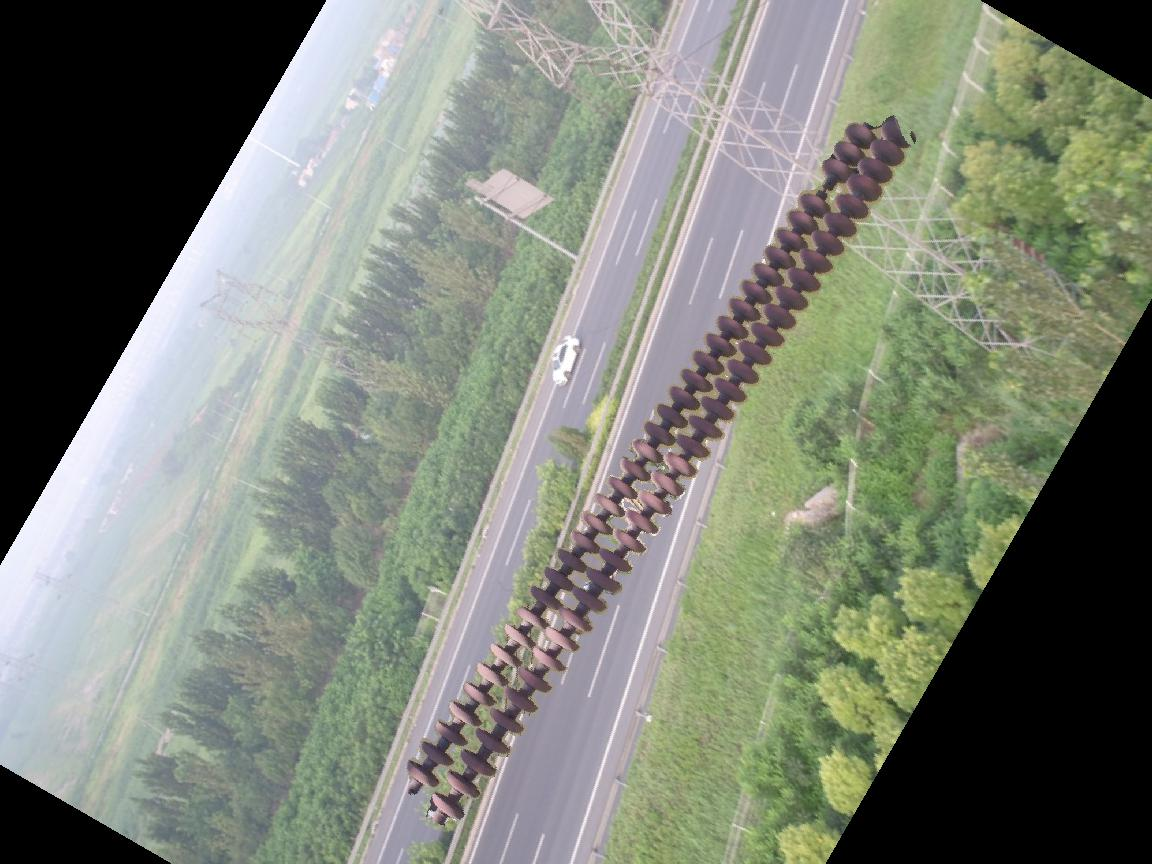insulator: (401, 116, 905, 828)
insulator_stringdrop: (795, 155, 856, 221)
